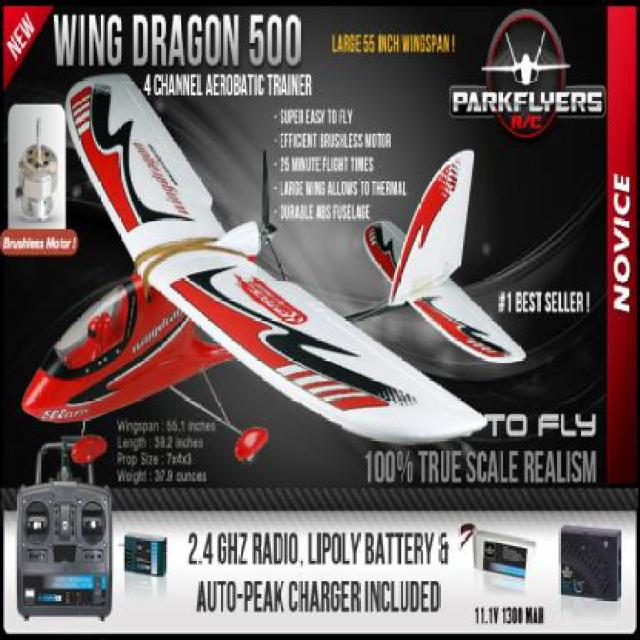iha: (7, 54, 534, 470)
